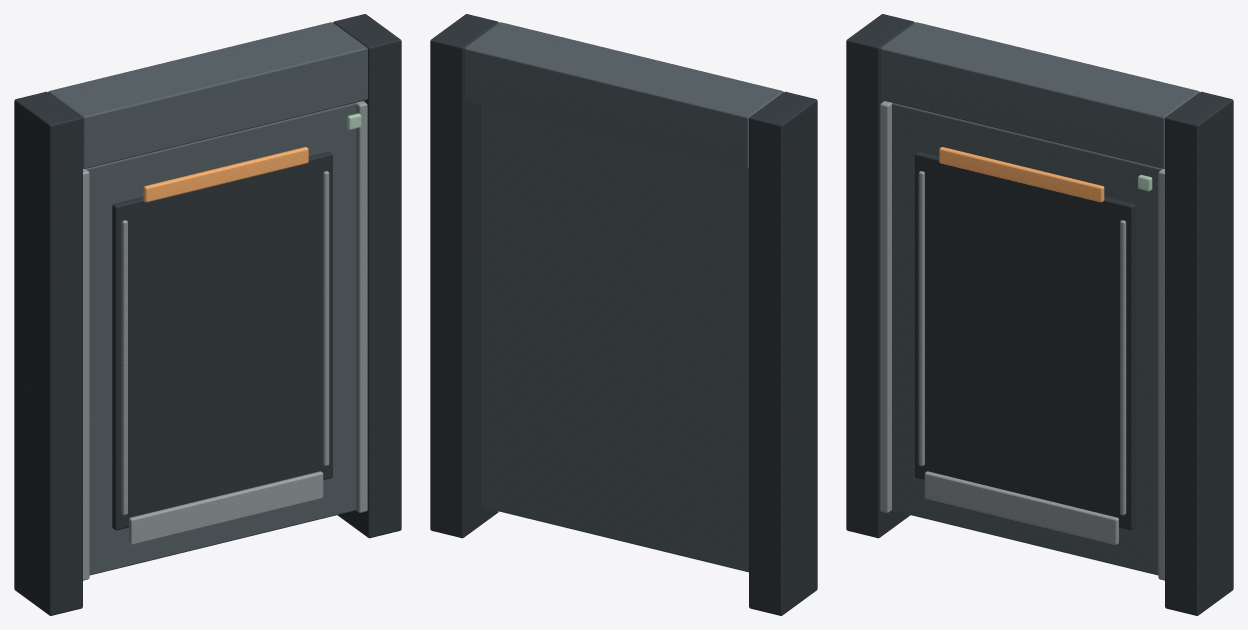
The model's file is SlidingBulkhead.glb.
3 views of the same model, side by side, from view 1: azimuth 30°, elevation 25°; view 2: azimuth 150°, elevation 25°; view 3: azimuth 330°, elevation 25° (orthographic).
Parts seen in each view (by area): view 1: SlidingBulkhead_Mesh; view 2: SlidingBulkhead_Mesh; view 3: SlidingBulkhead_Mesh.
Part boxes in pixels (box(x1,y1,x2,y2)): SlidingBulkhead_Mesh: box(14, 14, 401, 615); SlidingBulkhead_Mesh: box(430, 14, 817, 615); SlidingBulkhead_Mesh: box(846, 14, 1233, 615).
Bounding box in the file's own units: 1.68 × 2.24 × 0.3325.
Materials: 5 (5 with a texture image).
